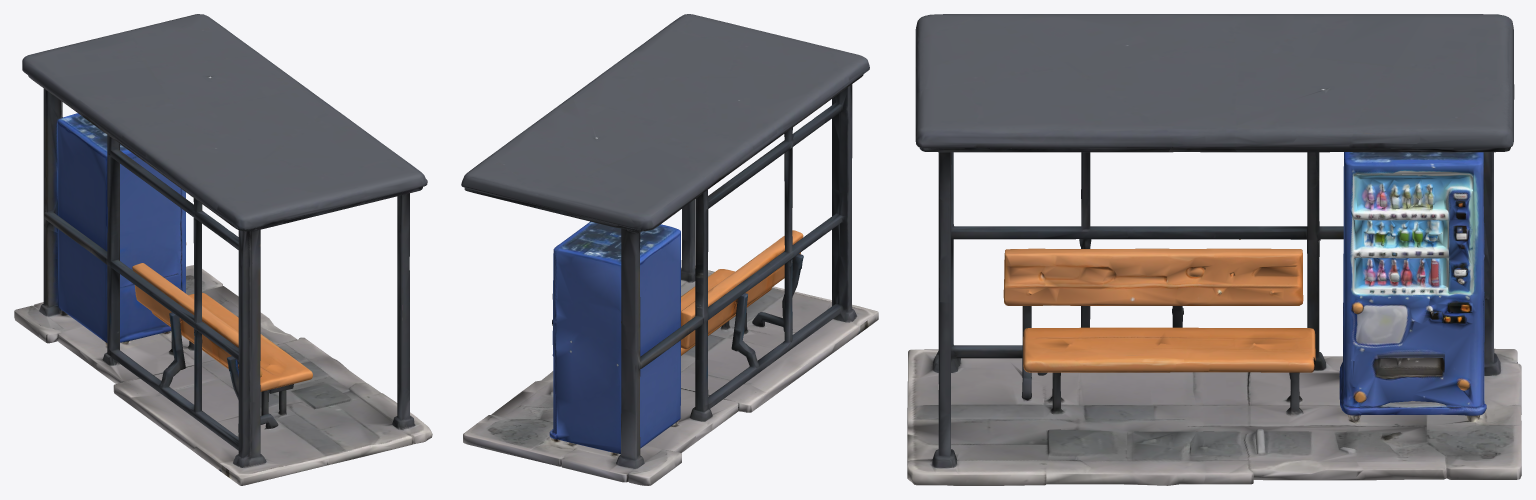
Rendered from tripo_h31_korean_bus_stop_vending_shelter.glb.
The picture shows the model from 3 angles, left to right: view 1: azimuth 30°, elevation 25°; view 2: azimuth 150°, elevation 25°; view 3: azimuth 270°, elevation 25°; orthographic projection. The views are drawn at different scales.
Parts seen in each view (by area): view 1: tripo_node_0dc4fcac-0b46-44e2-a48a-58d7dba8e225; view 2: tripo_node_0dc4fcac-0b46-44e2-a48a-58d7dba8e225; view 3: tripo_node_0dc4fcac-0b46-44e2-a48a-58d7dba8e225.
Part boxes in pixels (x1,y1,x2,y2): tripo_node_0dc4fcac-0b46-44e2-a48a-58d7dba8e225: [14, 14, 432, 485]; tripo_node_0dc4fcac-0b46-44e2-a48a-58d7dba8e225: [461, 14, 878, 485]; tripo_node_0dc4fcac-0b46-44e2-a48a-58d7dba8e225: [907, 14, 1521, 485].
Bounding box in the file's own units: 0.4866 × 0.6332 × 0.9993.
Materials: 1 (1 with a texture image).
